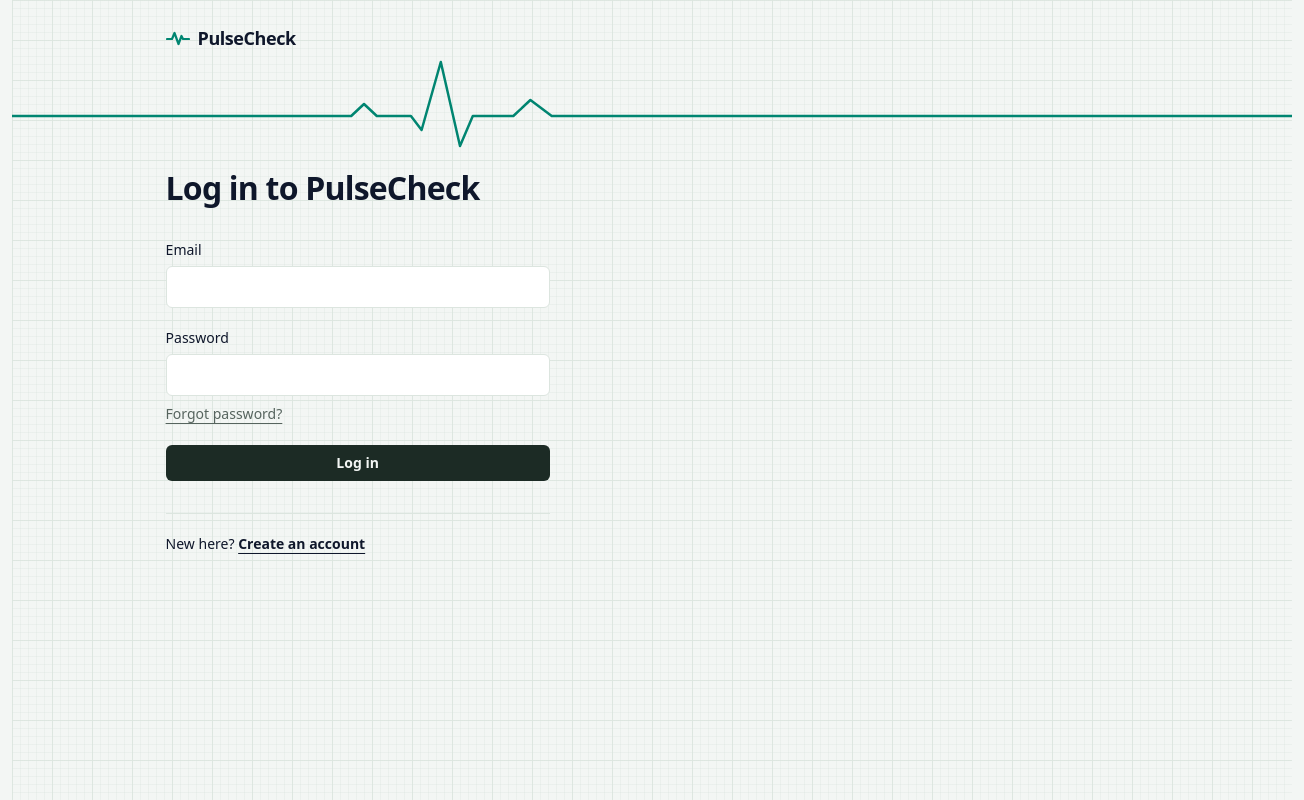
Test: Login › validates the email format and clears errors as the user fixes them
Expected: the heading "Log in to PulseCheck" is shown, [166,166,480,209]
Type "not-an-email" into the field labelled "Email" at (358, 287), box [166,266,550,308]
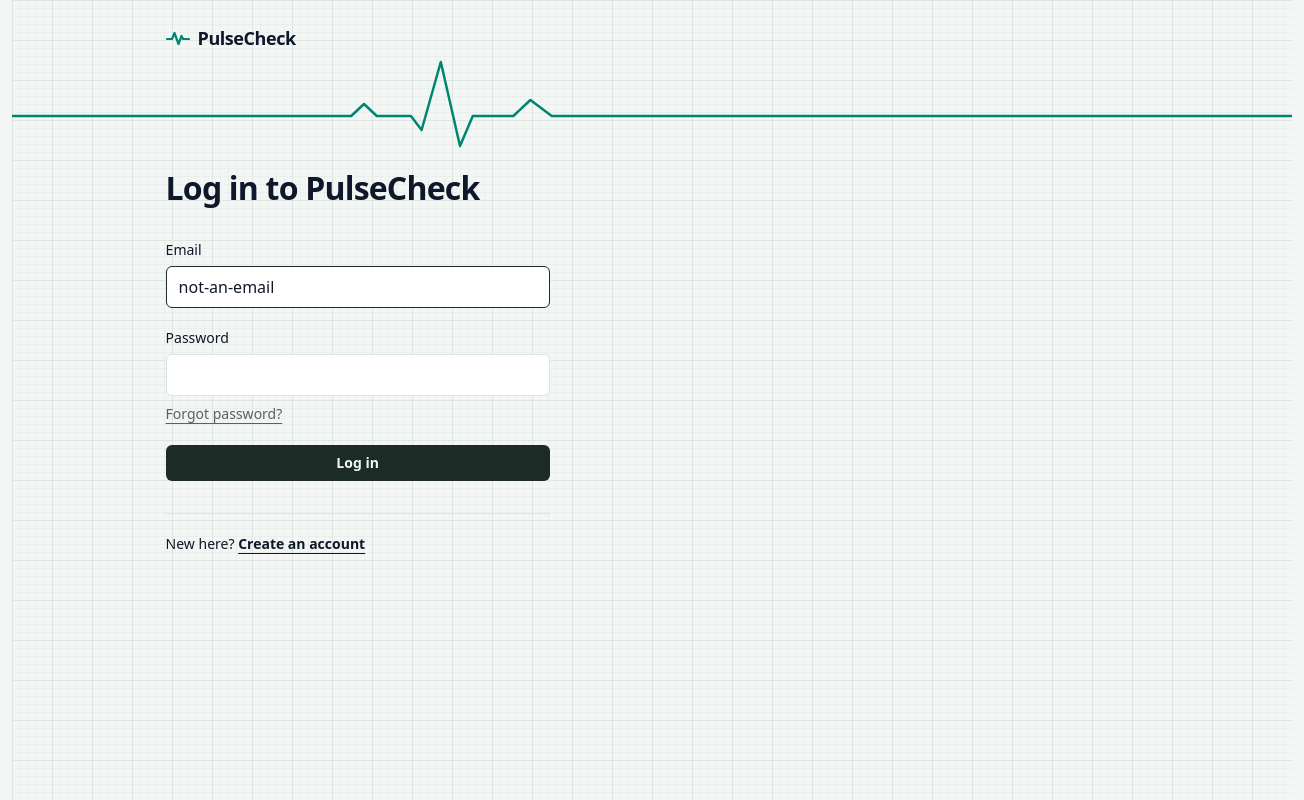
Type "whatever" into the password field labelled "Password" at (358, 375), box [166,354,550,396]
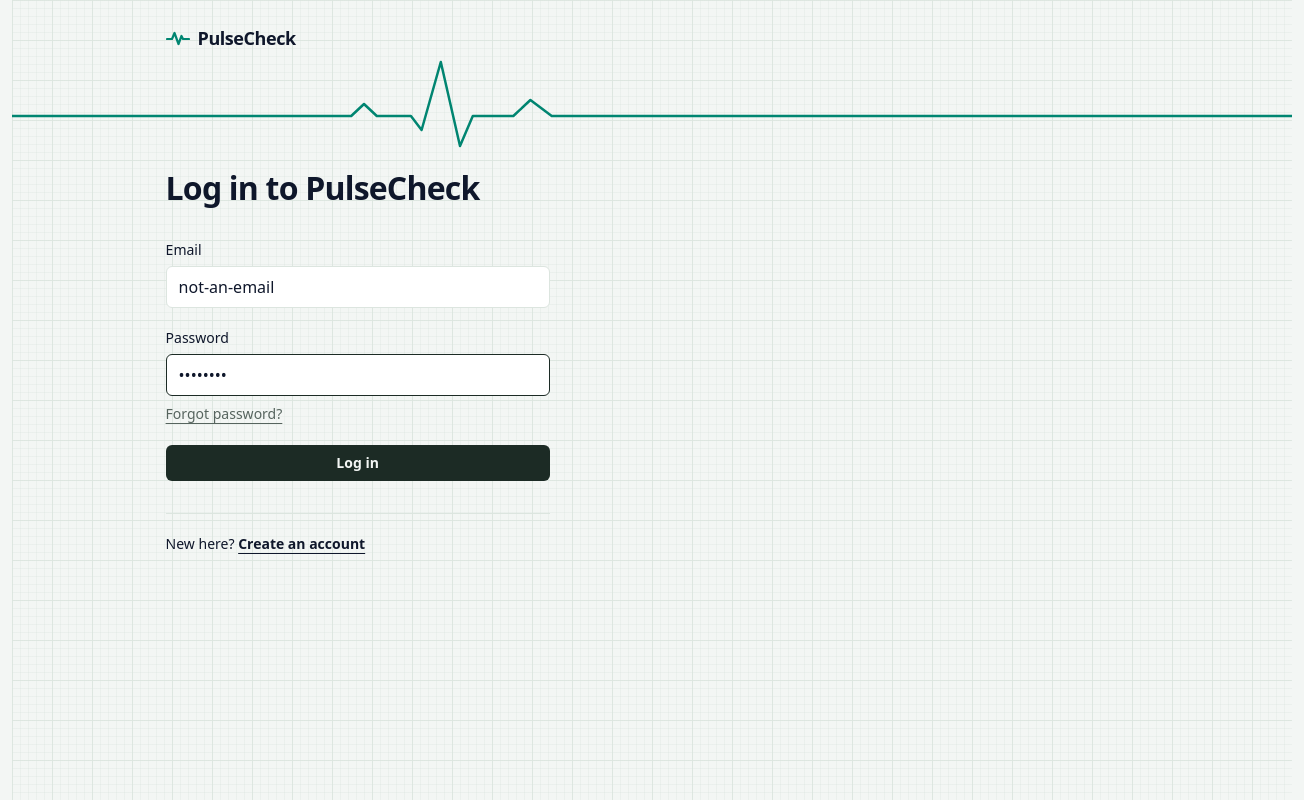
Click the button "Log in" at (358, 463), box [166,445,550,481]
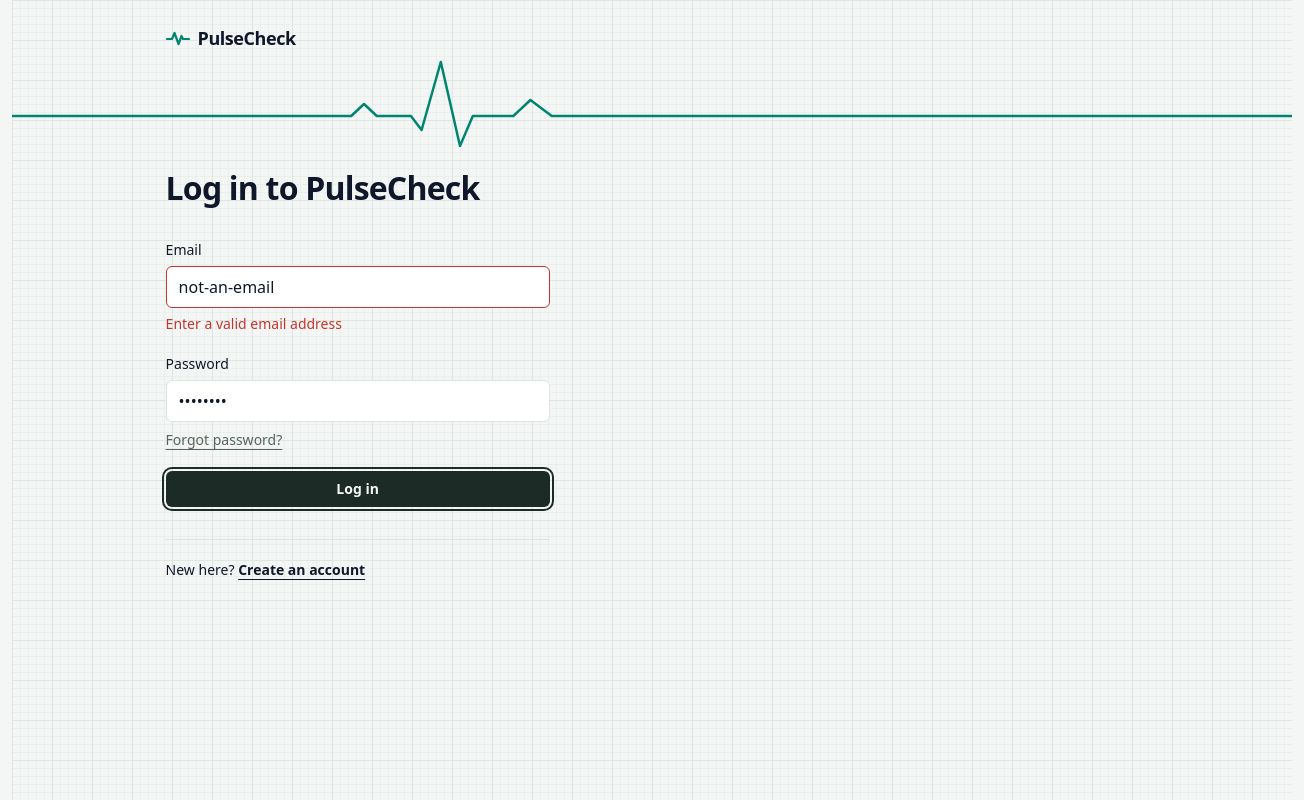
Expected: the text "Enter a valid email address" is shown, [166,314,342,333]
Type "@example.com" into the field labelled "Email" at (358, 287), box [166,266,550,308]
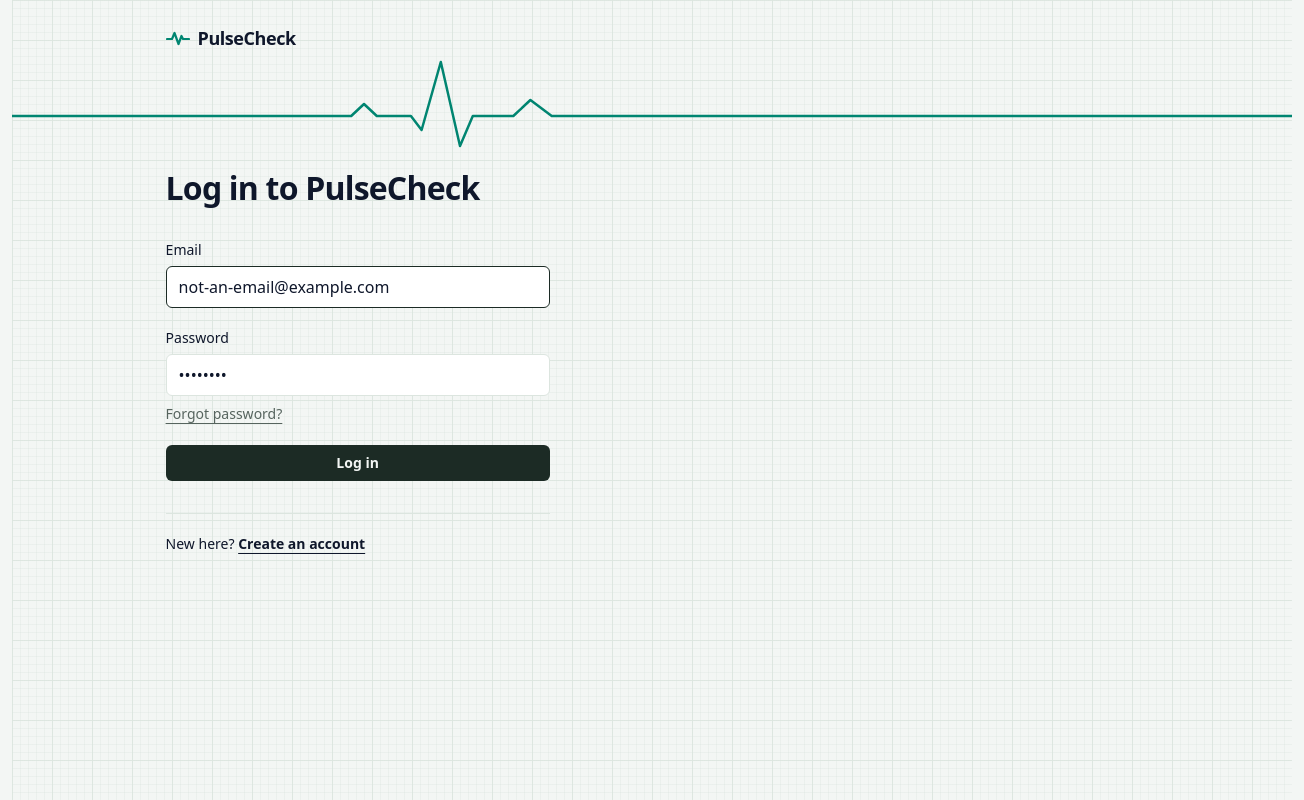
Expected: the text "Enter a valid email address" is gone
